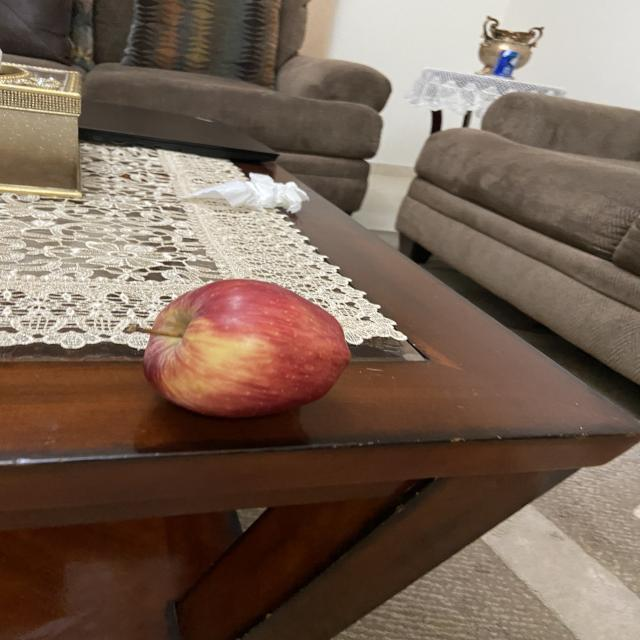apple: (119, 272, 358, 426)
